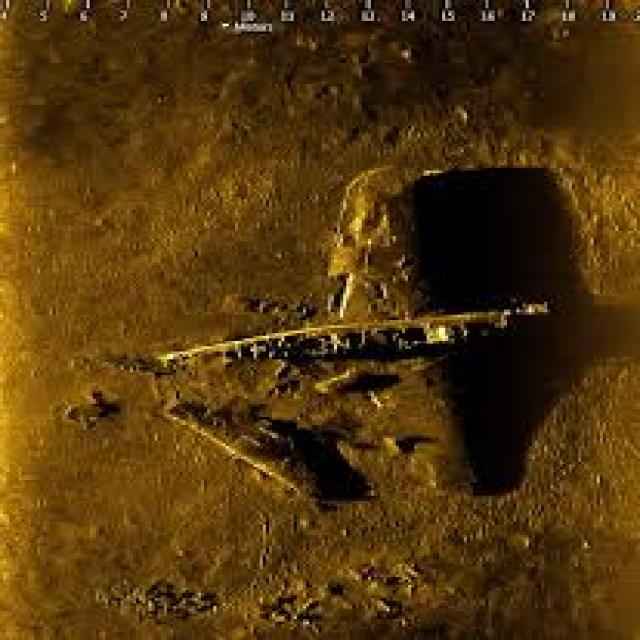plane: (127, 155, 572, 511)
